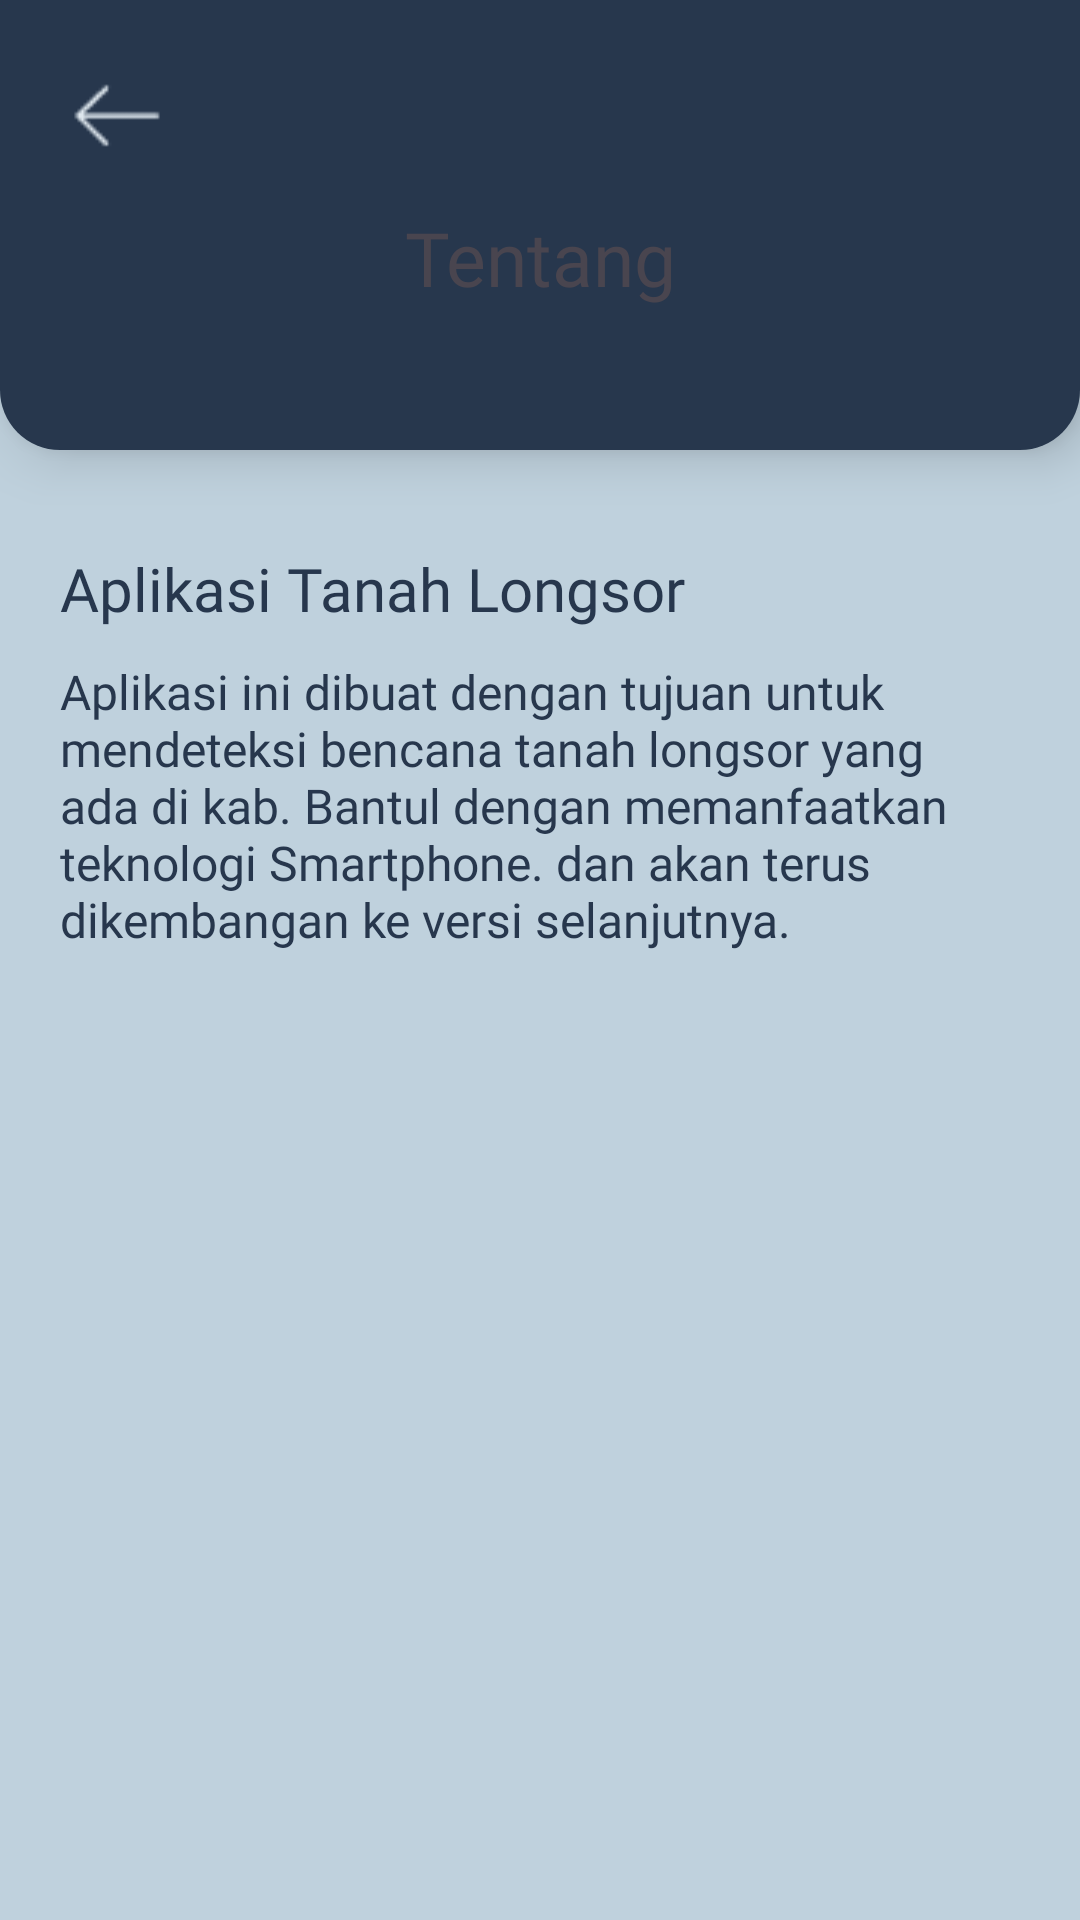

Icons on this 1080x1920 Android screen, each with the point to tap as (x,y):
arrow: (117,116)
